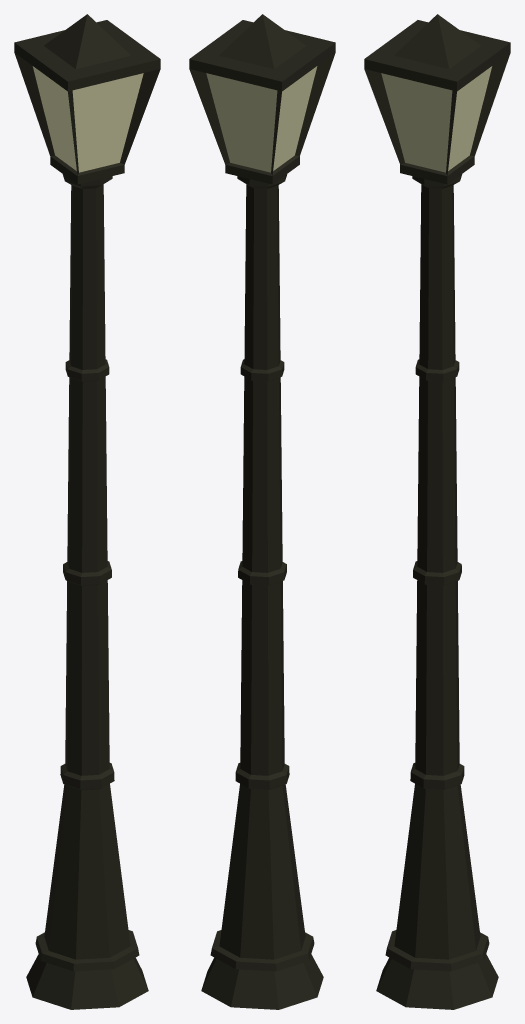
Rendered from lantern.fbx.
3 renders of one model, left to right at view 1: azimuth 30°, elevation 25°; view 2: azimuth 150°, elevation 25°; view 3: azimuth 330°, elevation 25°, orthographic.
Parts seen in each view (by area): view 1: Lantern.001; view 2: Lantern.001; view 3: Lantern.001.
Part boxes in pixels (box(x1,y1,x2,y2)): Lantern.001: box(14, 14, 160, 1009); Lantern.001: box(189, 14, 335, 1009); Lantern.001: box(364, 14, 510, 1009).
Bounding box in the file's own units: 87.53 × 738 × 87.53.
